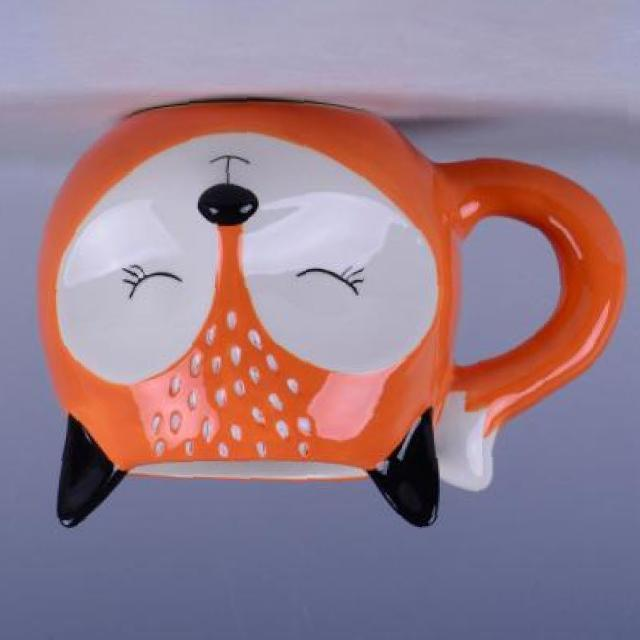cup: (33, 88, 636, 542)
